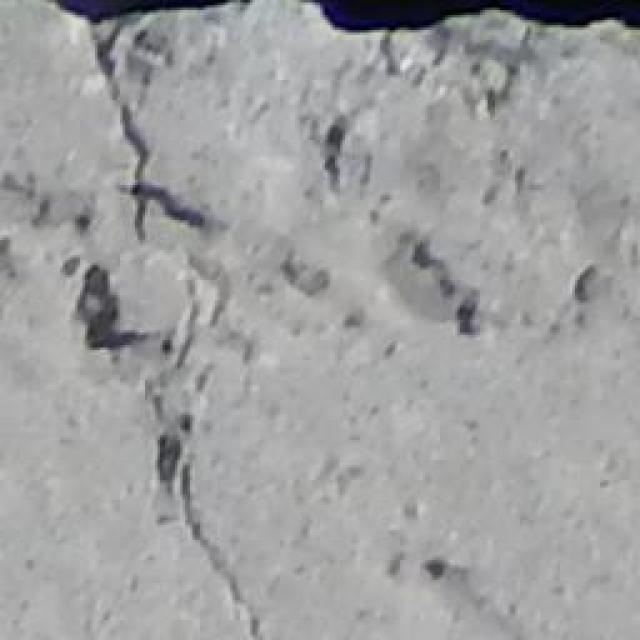concrete-crack: (39, 0, 240, 247), (151, 411, 266, 640), (298, 2, 640, 40), (62, 266, 165, 355)
